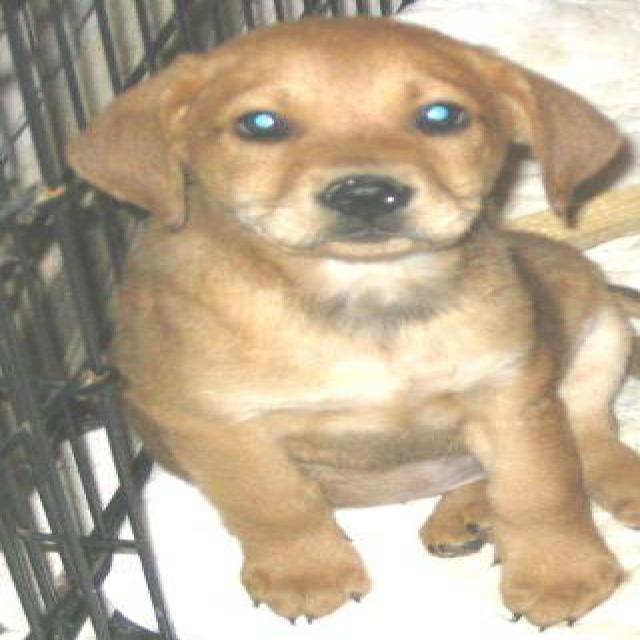dog: (62, 14, 638, 630)
